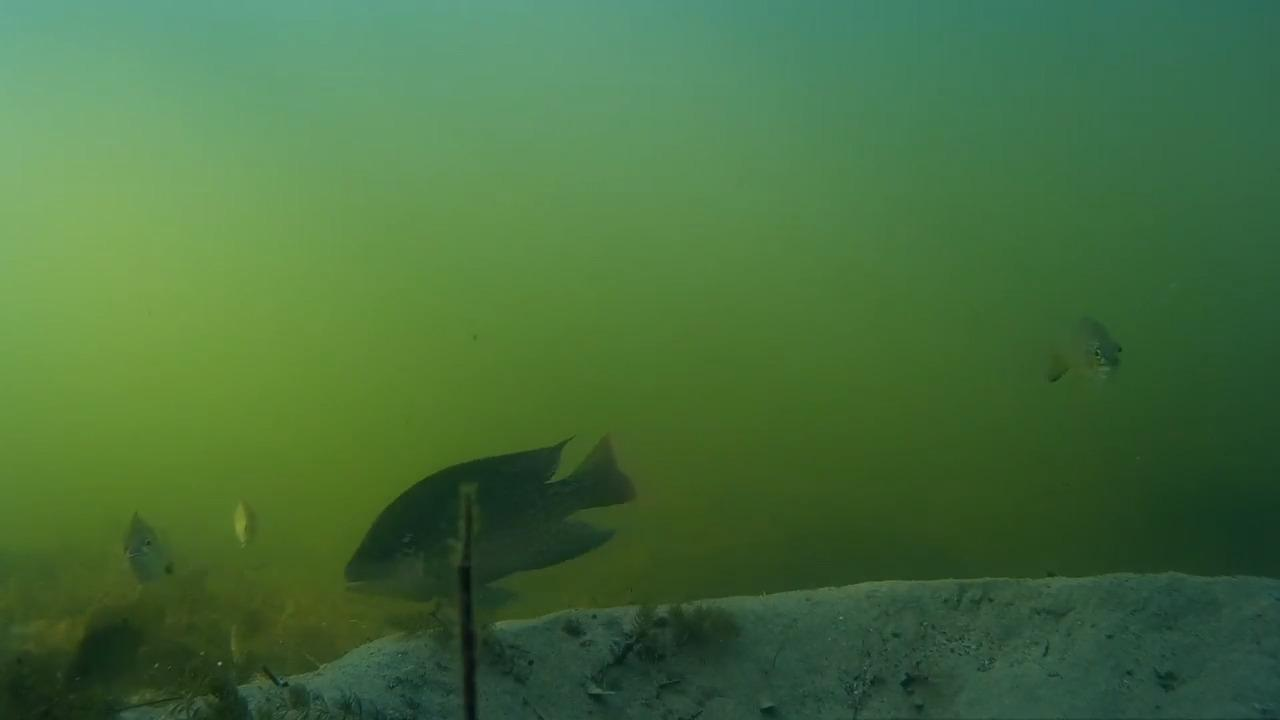Tilapia: (348, 425, 661, 605), (1028, 312, 1131, 402), (230, 500, 281, 554)
